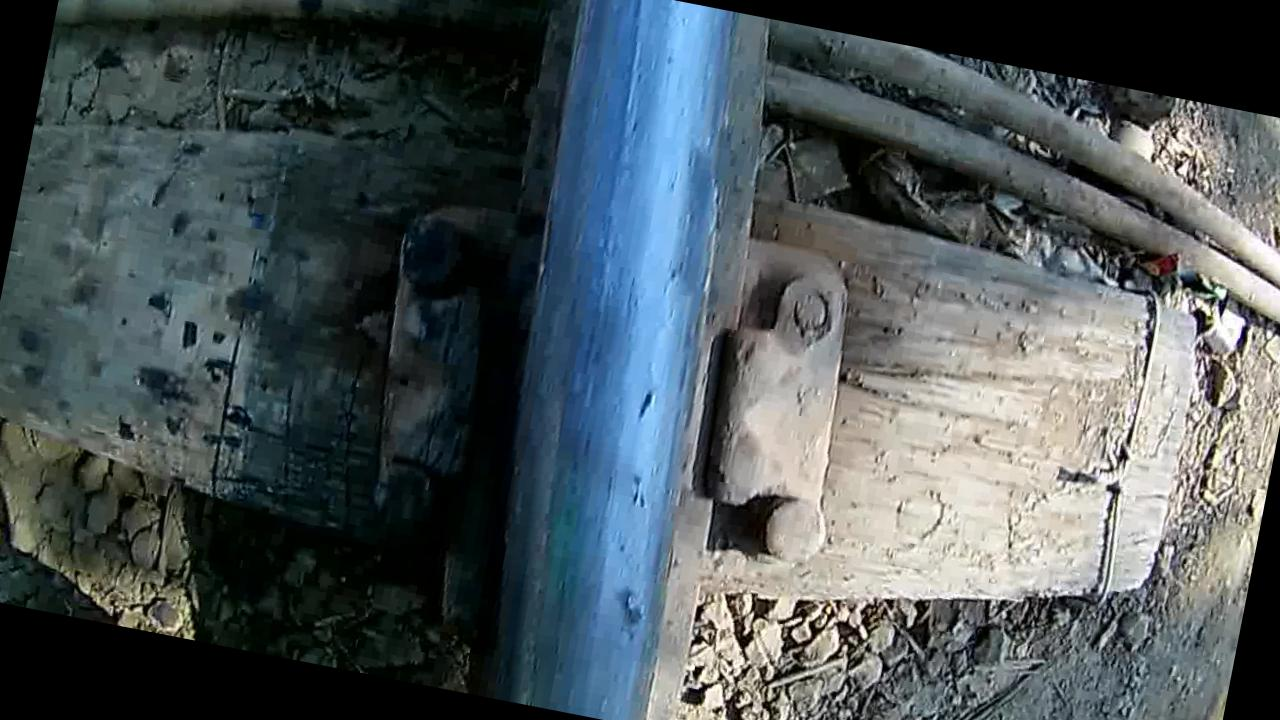crack: (471, 0, 758, 720)
